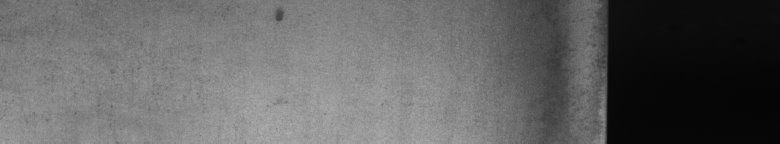fi: (272, 8, 284, 24)
